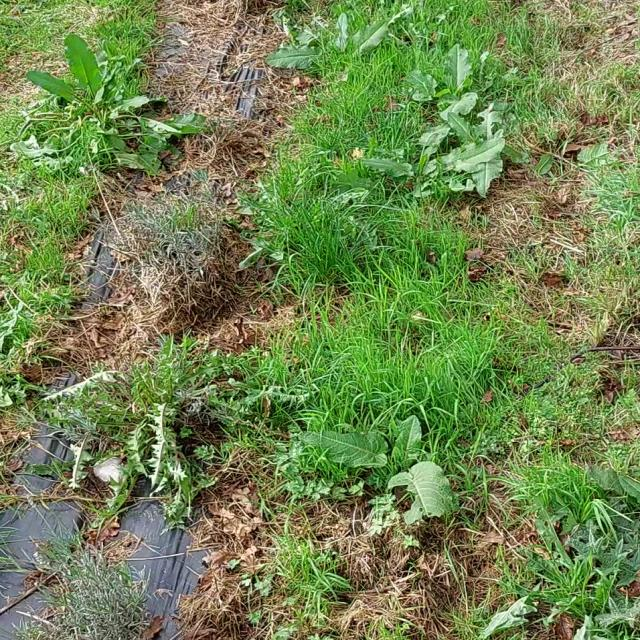organic waste: (6, 16, 220, 176), (313, 402, 487, 526), (360, 118, 524, 222), (247, 0, 421, 90), (388, 24, 510, 138)
